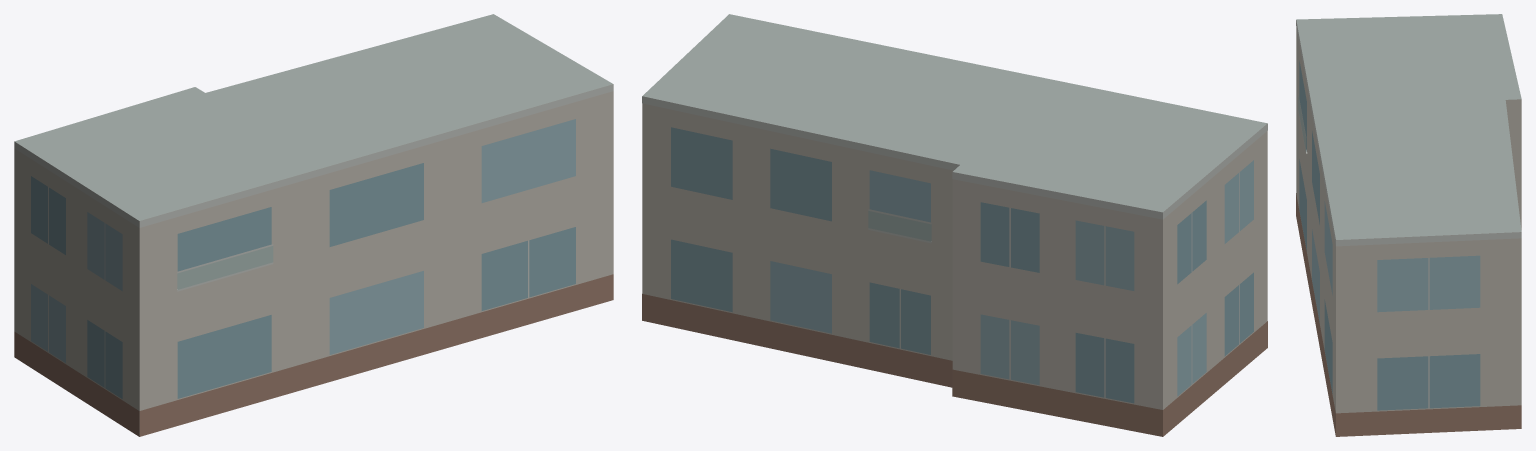
Rendered from survey-upis-33025130.glb.
The picture shows the model from 3 angles, left to right: view 1: azimuth 30°, elevation 25°; view 2: azimuth 150°, elevation 25°; view 3: azimuth 270°, elevation 25°; orthographic projection. The views are drawn at different scales.
Parts seen in each view (by area): view 1: survey-upis-33025130.tmp; view 2: survey-upis-33025130.tmp; view 3: survey-upis-33025130.tmp.
Part boxes in pixels (x1,y1,x2,y2): survey-upis-33025130.tmp: (14, 14, 613, 436); survey-upis-33025130.tmp: (642, 14, 1267, 436); survey-upis-33025130.tmp: (1296, 14, 1521, 436).
Bounding box in the file's own units: 18.74 × 7.6 × 7.9.
